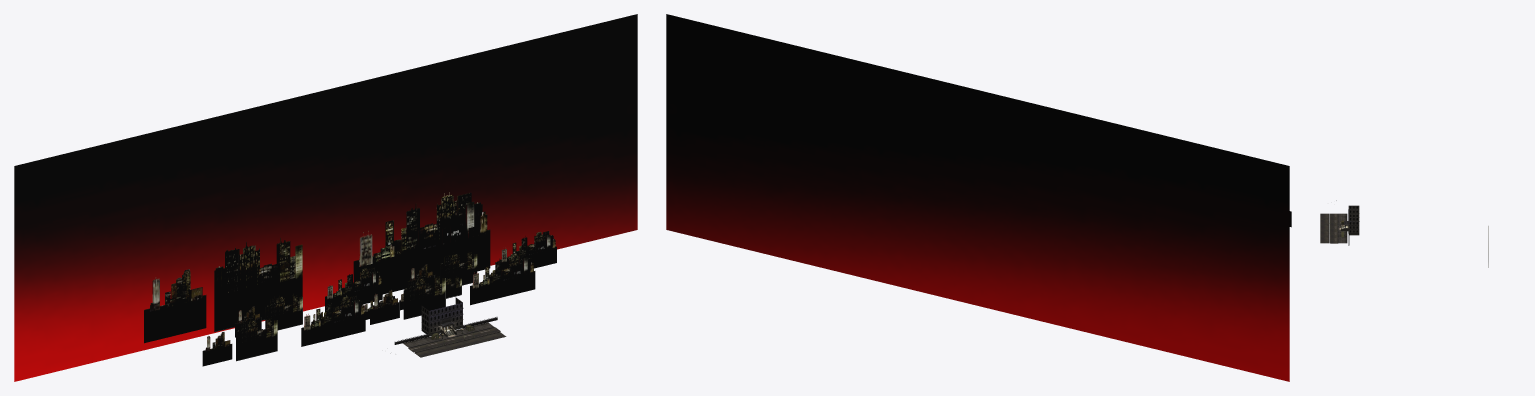
Rendered from UMK3iOSStreet.glb.
3 views of the same model, side by side, from view 1: azimuth 30°, elevation 25°; view 2: azimuth 150°, elevation 25°; view 3: azimuth 270°, elevation 25° (orthographic). The views are drawn at different scales.
Parts seen in each view (by area): view 1: 3_Plane005, 4_ALPHA_background, 5_ALPHA_2, 29_ALPHA_background002, 28_ALPHA_background001, 2_Object027, 1_backroad001, 0_road, 6_ALPHA_3; view 2: 3_Plane005; view 3: 1_backroad001, 2_Object027, 0_road.
Part boxes in pixels (x1,y1,x2,y2): 3_Plane005: (14,14,637,381); 4_ALPHA_background: (144,192,490,343); 5_ALPHA_2: (235,231,556,337); 29_ALPHA_background002: (370,253,535,324); 28_ALPHA_background001: (202,295,365,366); 2_Object027: (394,297,497,344); 1_backroad001: (403,322,500,352); 0_road: (414,325,506,357); 6_ALPHA_3: (311,268,509,324); 3_Plane005: (666,14,1289,381); 1_backroad001: (1329,213,1347,243); 2_Object027: (1340,205,1359,245); 0_road: (1320,213,1343,243).
Size of the model in its own units: 385 by 127 by 151.
15 materials, 15 textured.
